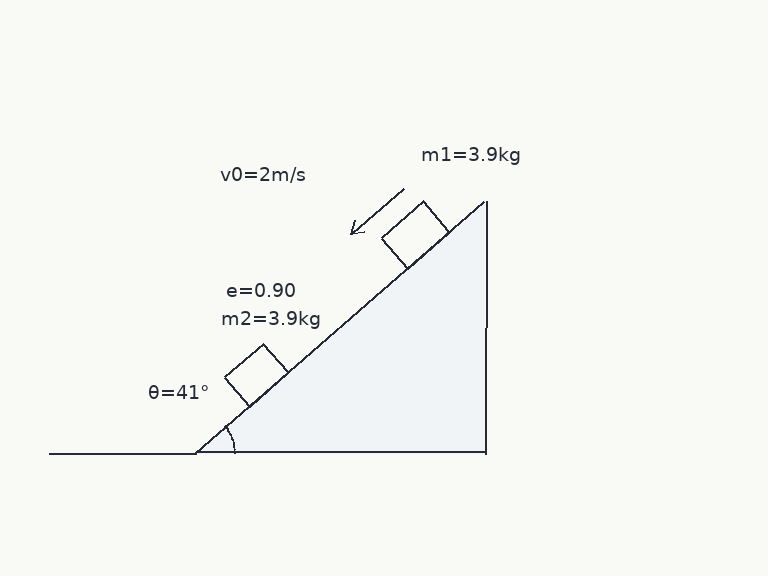block: (379, 199, 451, 270), (223, 342, 290, 408)
ramp: (193, 199, 487, 455)
